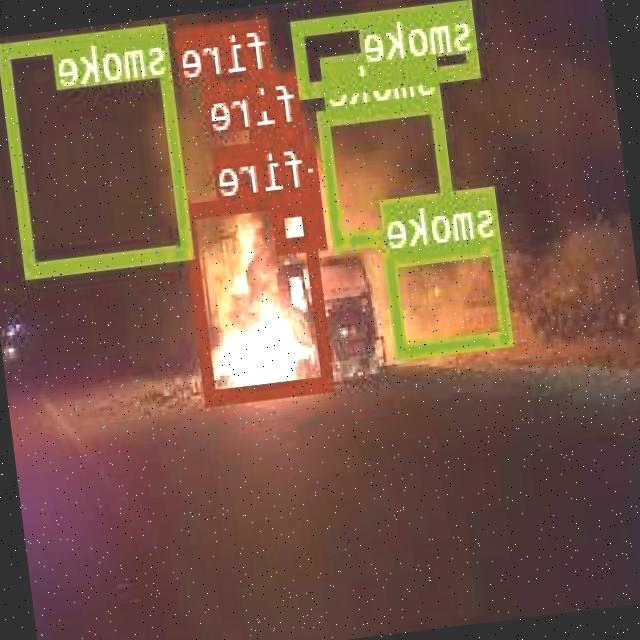fire: (184, 188, 336, 401), (251, 121, 309, 178), (272, 196, 330, 252), (247, 68, 279, 109)
smoke: (0, 23, 194, 274), (318, 94, 459, 246), (292, 0, 480, 93), (386, 238, 514, 356)
